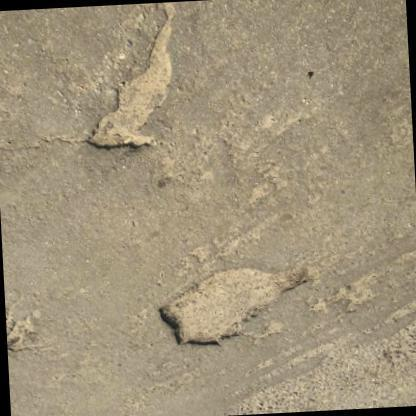pothole: (86, 0, 183, 148), (157, 270, 294, 346), (0, 310, 41, 351), (336, 276, 370, 316)
